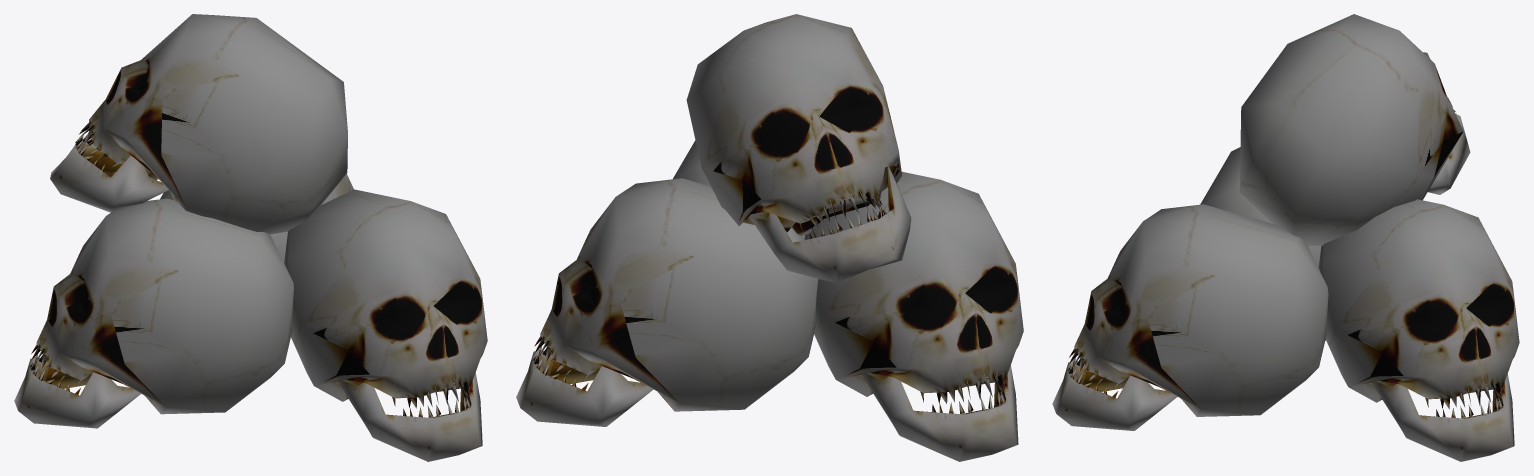
File: Dungeon_SkullPile.glb
3 views of the same model, side by side, from view 1: azimuth 30°, elevation 25°; view 2: azimuth 150°, elevation 25°; view 3: azimuth 270°, elevation 25° (orthographic). The views are drawn at different scales.
Parts seen in each view (by area): view 1: Dungeon_SkullPile; view 2: Dungeon_SkullPile; view 3: Dungeon_SkullPile.
Boxes of the visible parts, x1=… form: Dungeon_SkullPile: x1=14, y1=14, x2=487, y2=461; Dungeon_SkullPile: x1=516, y1=14, x2=1023, y2=461; Dungeon_SkullPile: x1=1052, y1=14, x2=1519, y2=461.
Size of the model in its own units: 0.5952 by 0.4995 by 0.6173.
Materials: 1 (1 with a texture image).
